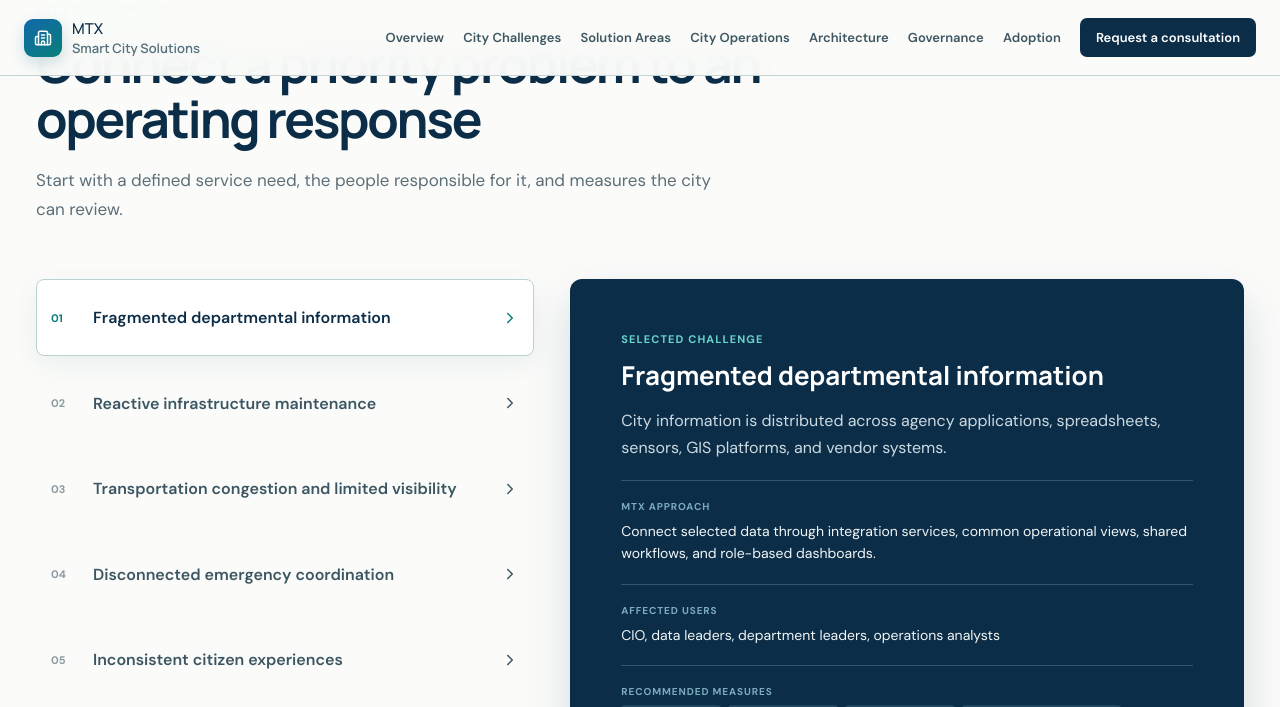
MTX Smart City prototype › updates the challenge response from the selector
(page scrolled)
Click the button "02 Reactive infrastructure maintenance". click: (285, 403)
box: [36,364,534,442]
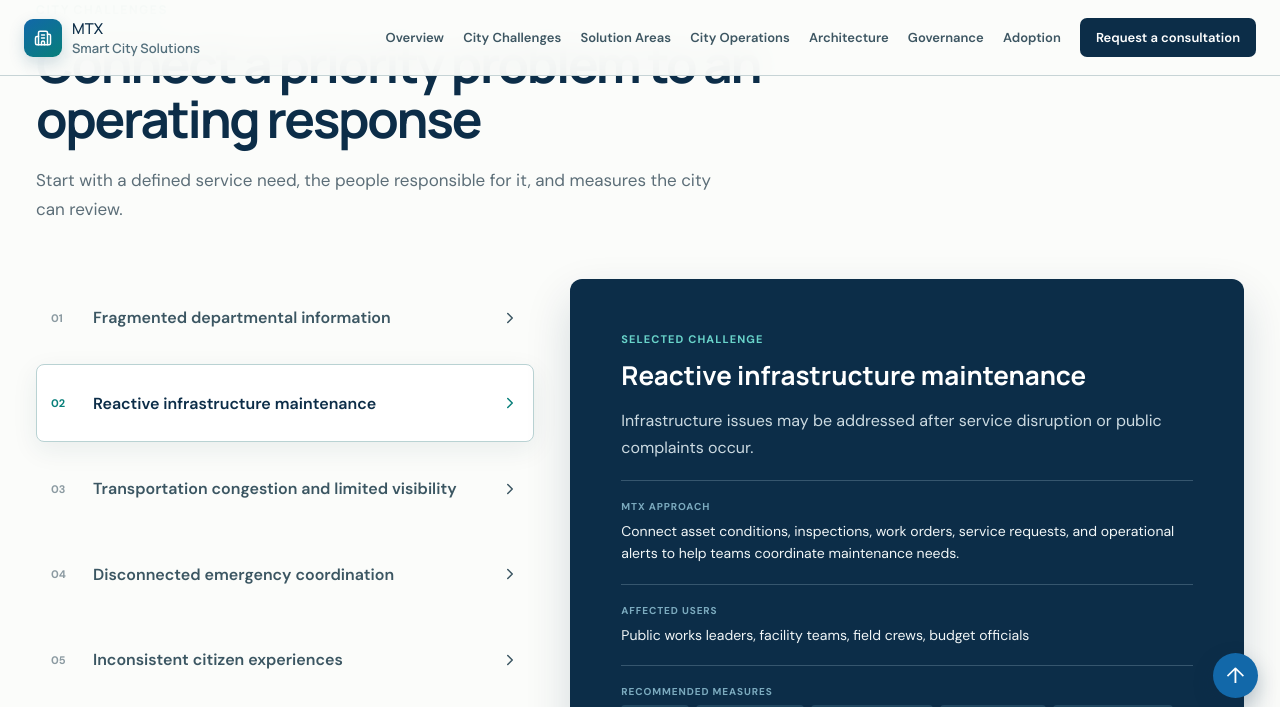
Check: the text "Connect asset conditions" is shown, box [621,522,1174,562]
